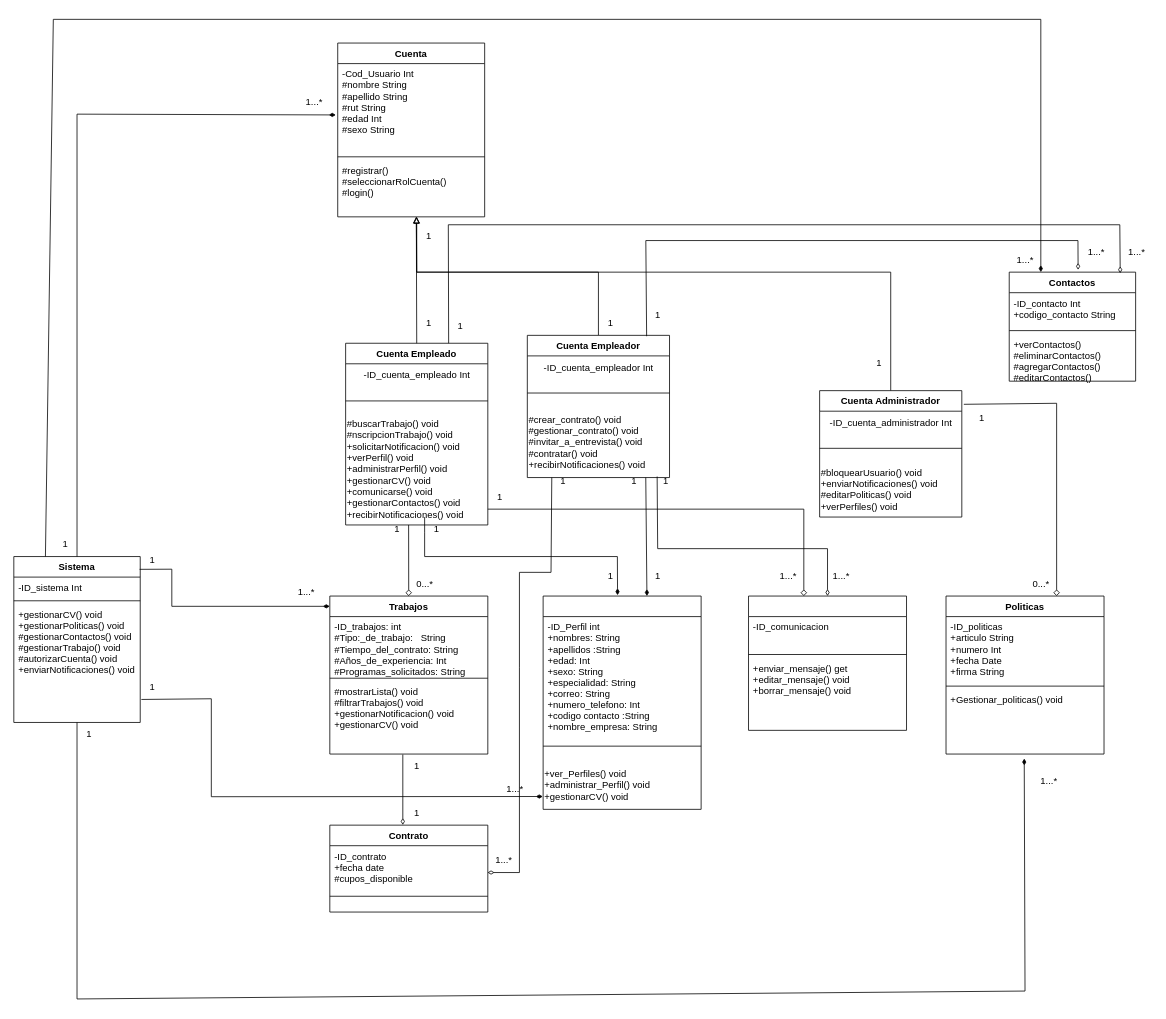
This 1166x1019 diagram has some shape labels left out. Each missing label, with the box of its shape:
Comunicaciones: (748, 595, 907, 730)
Perfil Usuario: (542, 595, 701, 809)
